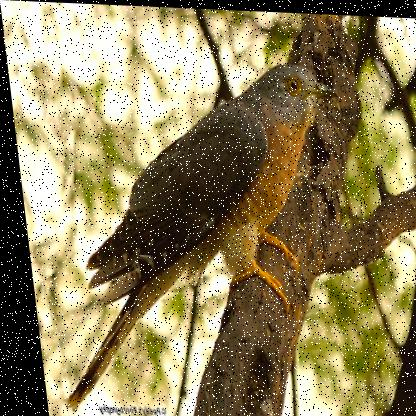Burung: (59, 54, 357, 315)
